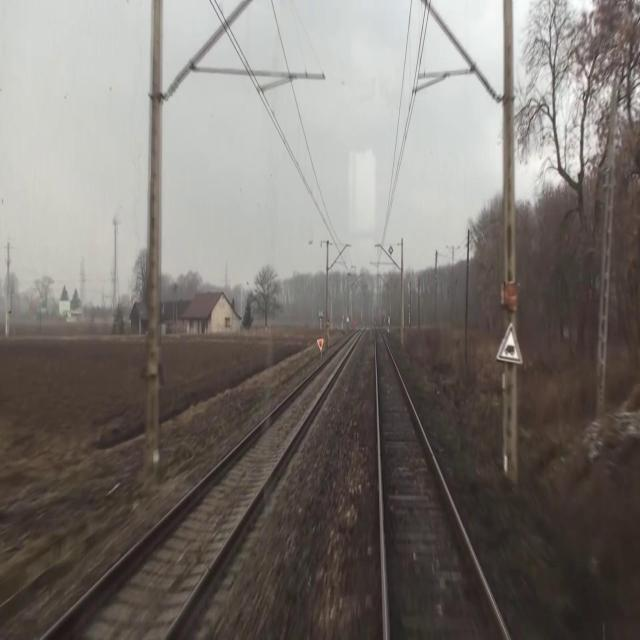rail-track: (376, 322, 505, 639)
